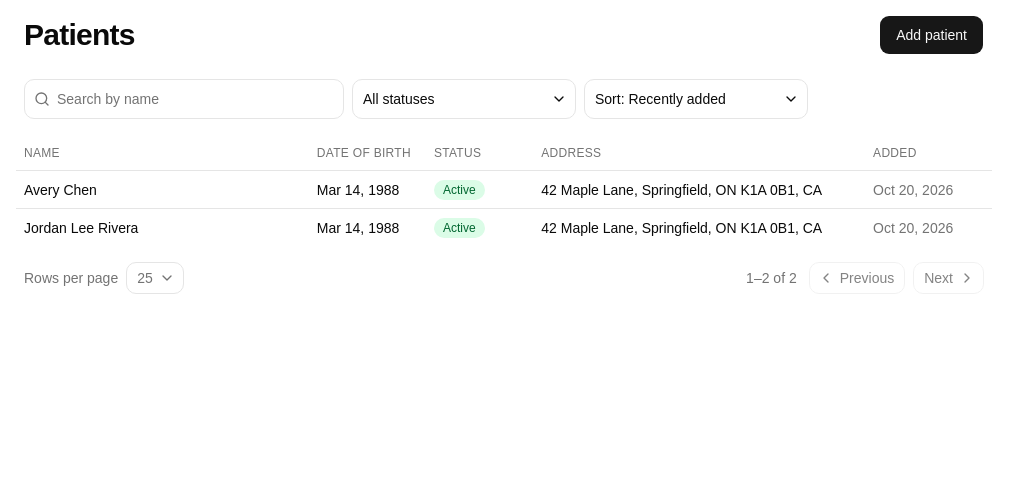
it: moving between the directory and a patient's details › opens a patient's details page when their name is clicked
Click the link "Jordan Lee Rivera" at (81, 228), box [24,220,138,236]
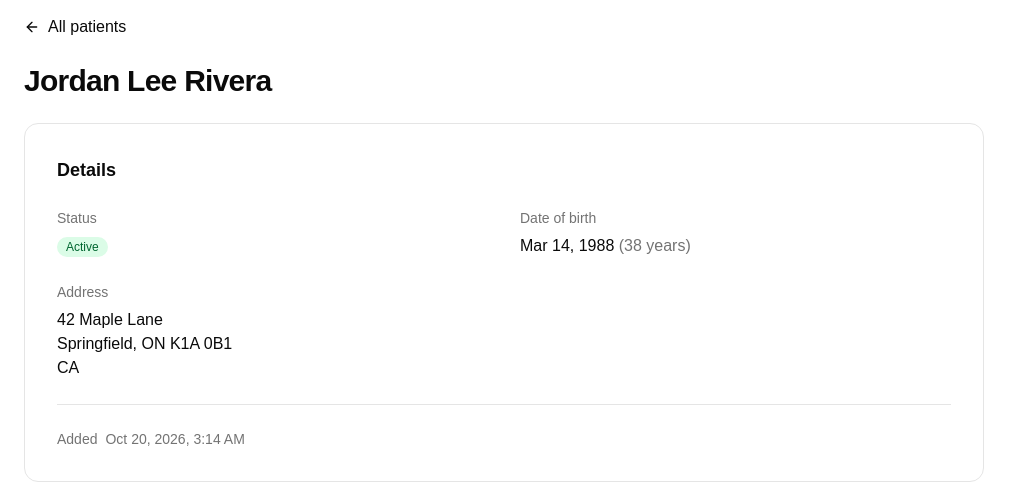
Check: the heading "Jordan Lee Rivera" is shown, box [24,64,271,97]
